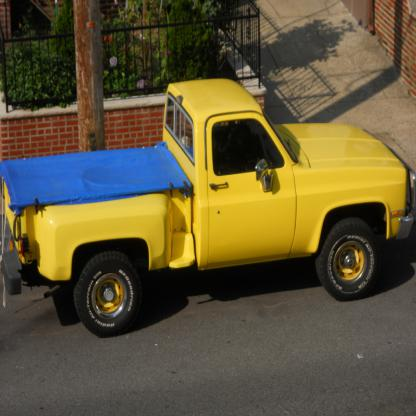Truck: (0, 78, 415, 338)
